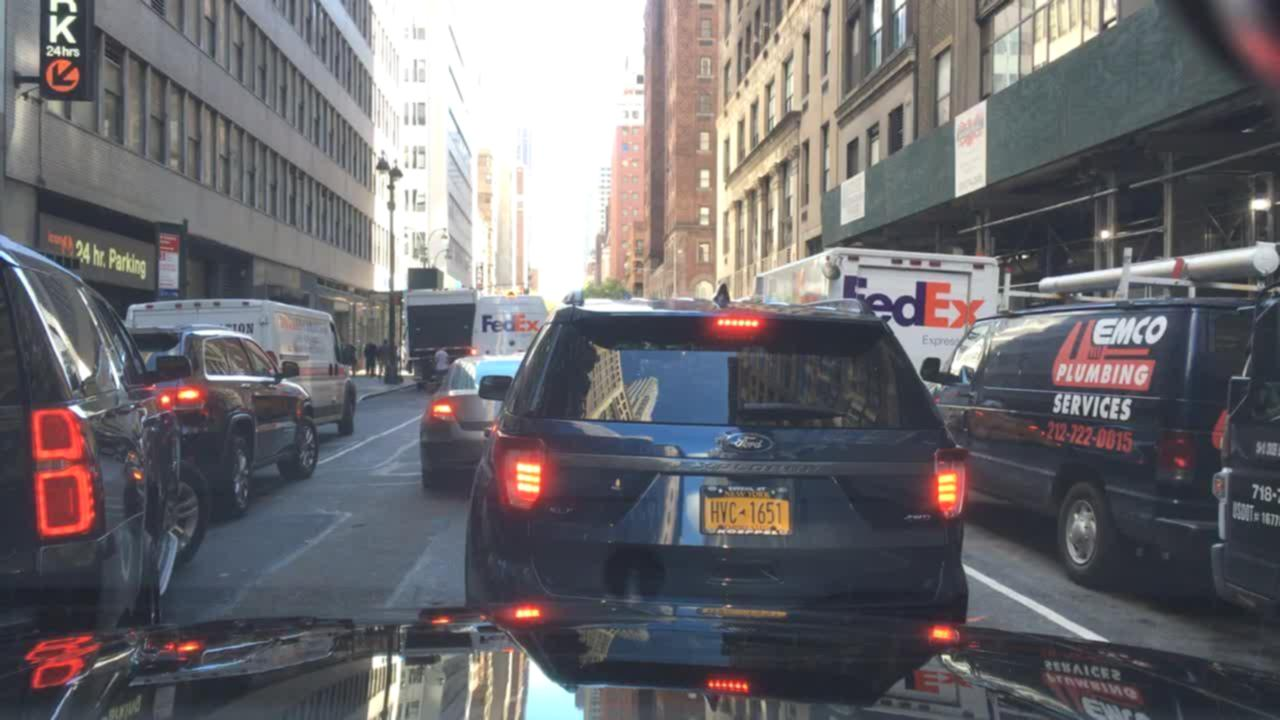ford: (717, 427, 777, 460)
